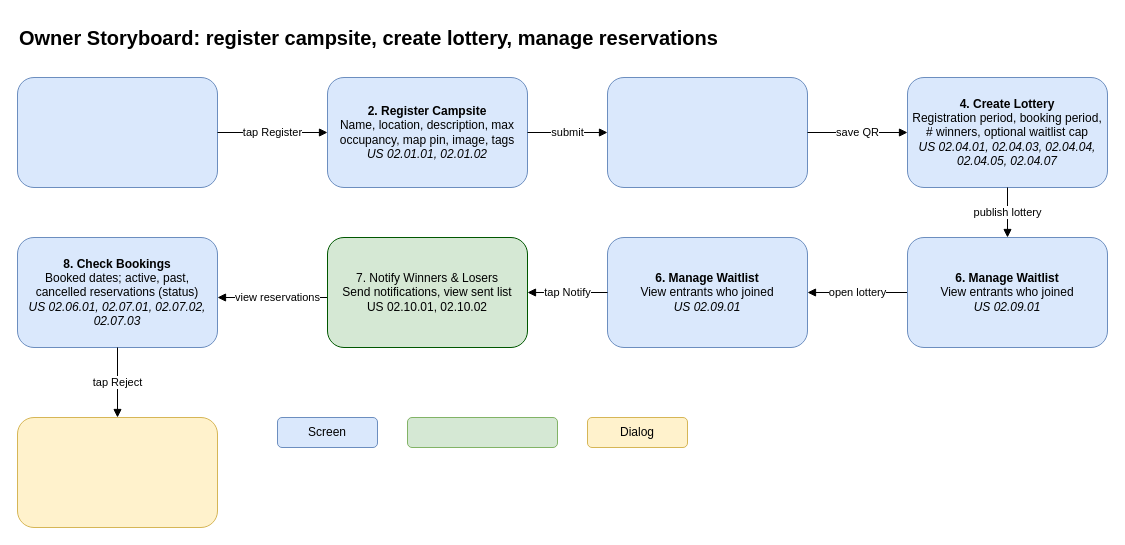
Some shapes in this 1125 by 545 pixel diagram are drawn without their labels. The shapes that lost their labels are listed below. From the top down, each one's box as (x1, y1, x2, y2) in pixels, then its label:
(16, 76, 218, 188): 1. My Campsites (main page) List of owner's campsites US 02.03.01
(606, 76, 808, 188): 3. QR Code Unique QR generated, save/share US 02.02.01
(406, 416, 558, 448): System / Notification
(16, 416, 218, 528): 9. Reject Entrant Confirm rejection dialog US 02.08.01
